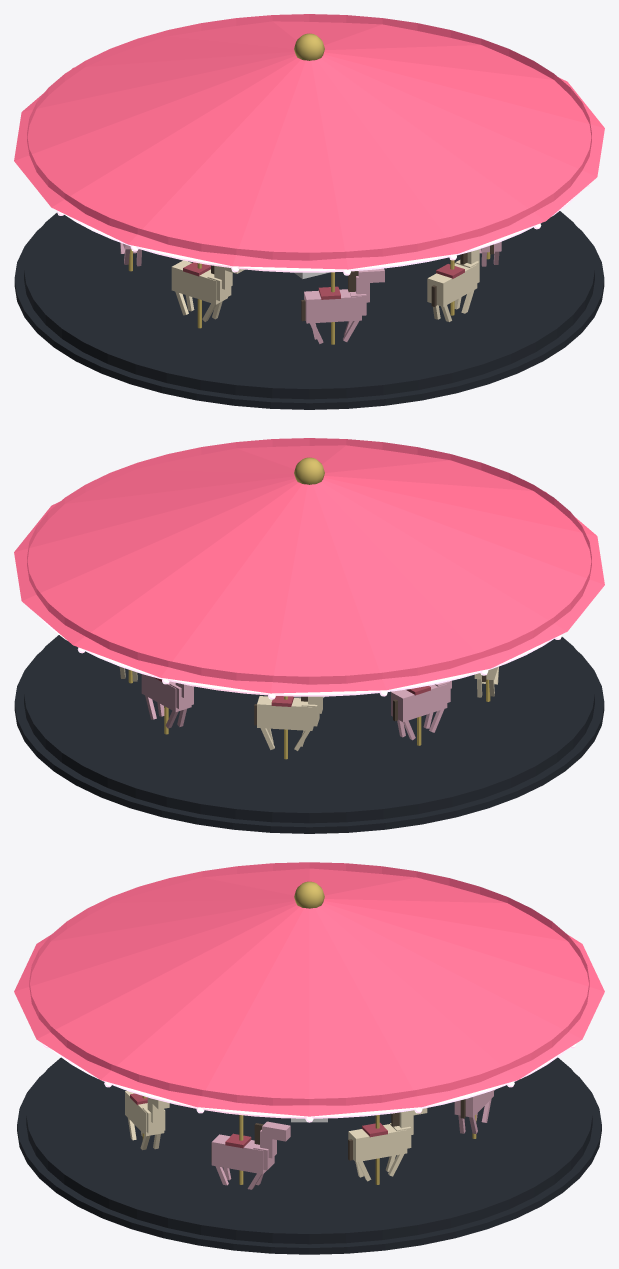
Rendered from carousel.glb.
The picture shows the model from 3 angles, top to bottom: view 1: azimuth 30°, elevation 25°; view 2: azimuth 150°, elevation 25°; view 3: azimuth 270°, elevation 25°; orthographic projection.
Visible parts, largest first — view 1: PlatformMesh, Skirt, HorseMesh_5, HorseMesh_4, HorseMesh_6; view 2: PlatformMesh, Skirt, HorseMesh_2, HorseMesh_3, HorseMesh_1; view 3: PlatformMesh, Skirt, HorseMesh_7, HorseMesh_0, HorseMesh_6, HorseMesh_1.
Part boxes in pixels (x1,y1,x2,y2): PlatformMesh: (14,14,604,399); Skirt: (14,227,604,409); HorseMesh_5: (301,268,384,344); HorseMesh_4: (171,260,244,328); HorseMesh_6: (427,249,479,321); PlatformMesh: (14,438,604,823); Skirt: (14,651,604,833); HorseMesh_2: (254,696,322,759); HorseMesh_3: (391,680,451,745); HorseMesh_1: (141,674,193,734); PlatformMesh: (14,862,604,1244); Skirt: (17,1073,601,1254); HorseMesh_7: (211,1115,290,1189); HorseMesh_0: (348,1108,427,1184); HorseMesh_6: (125,1091,169,1150); HorseMesh_1: (454,1090,494,1138).
Bounding box in the file's own units: 9.6 × 4.45 × 9.6.
